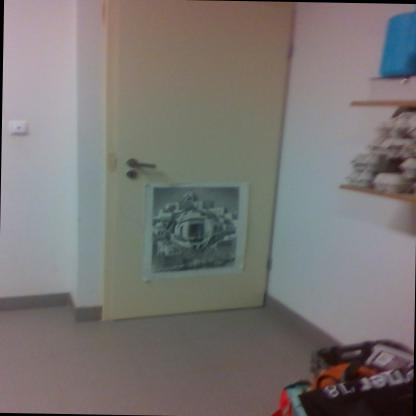closed: (86, 1, 302, 328)
